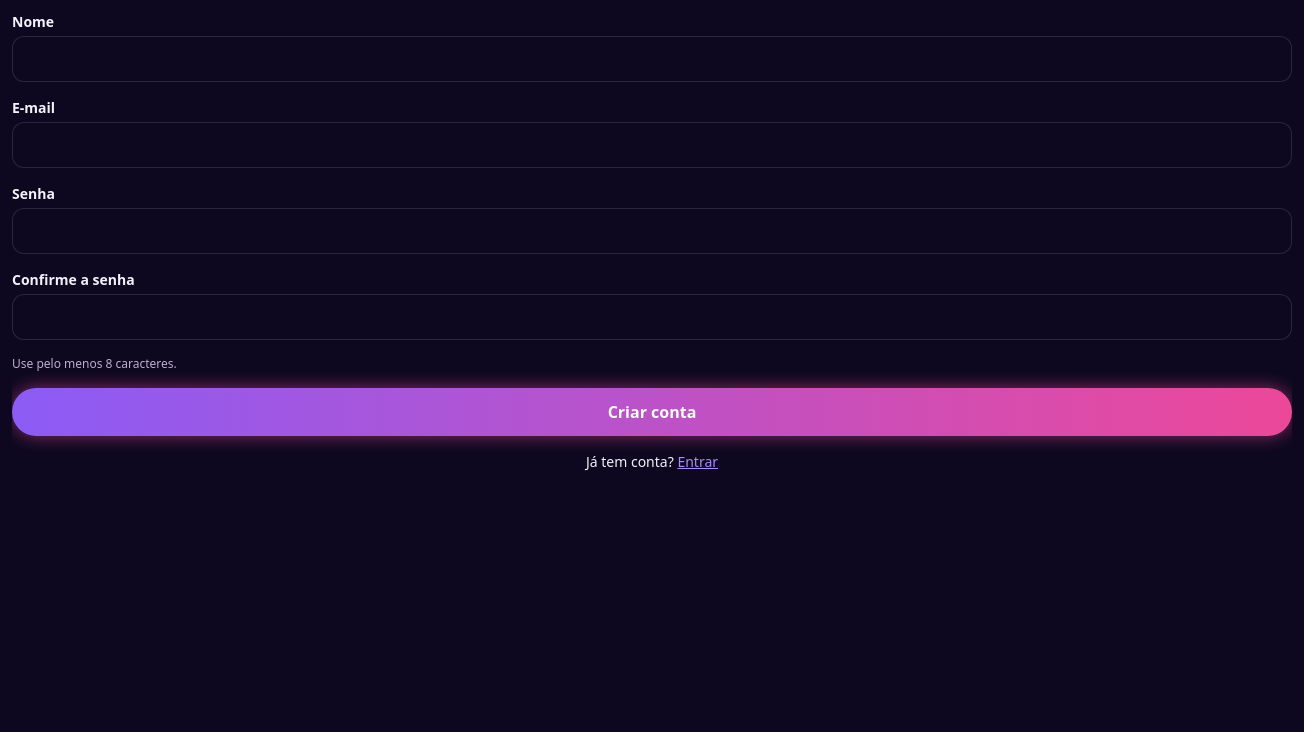
Scenario: Criar conta › confere a confirmação da senha antes de enviar
Type "Ana" into the field labelled "Nome" at coordinates (652, 59), box [12,36,1292,82]
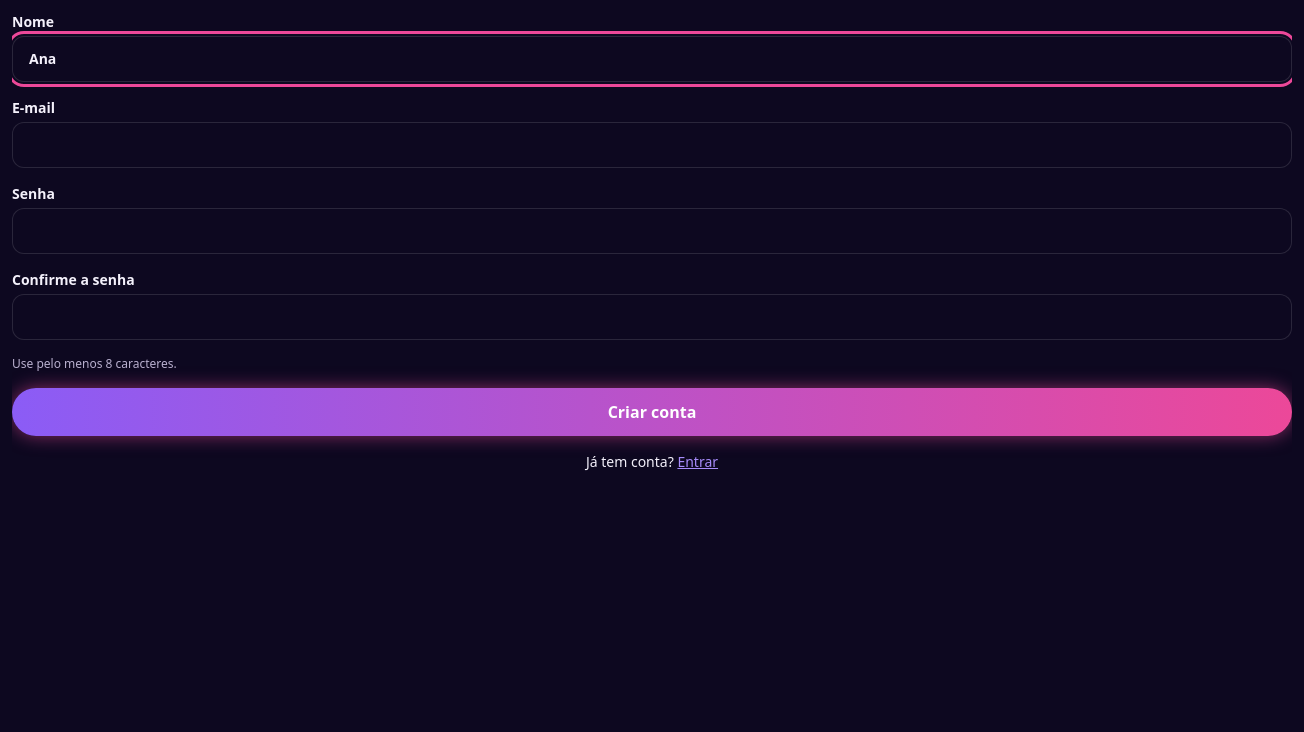
Type "ana@ex.com" into the field labelled "E-mail" at coordinates (652, 145), box [12,122,1292,168]
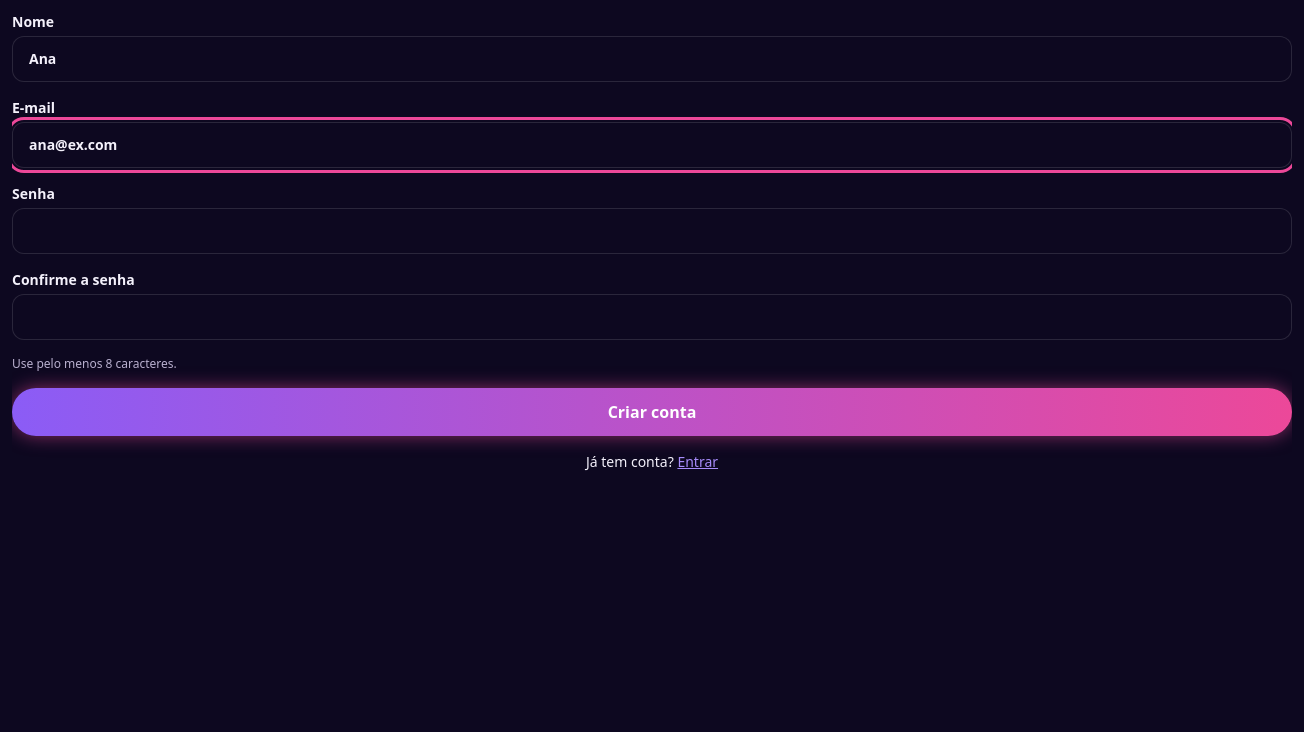
Type "senha-forte-1" into the password field labelled "Senha" at coordinates (652, 231), box [12,208,1292,254]
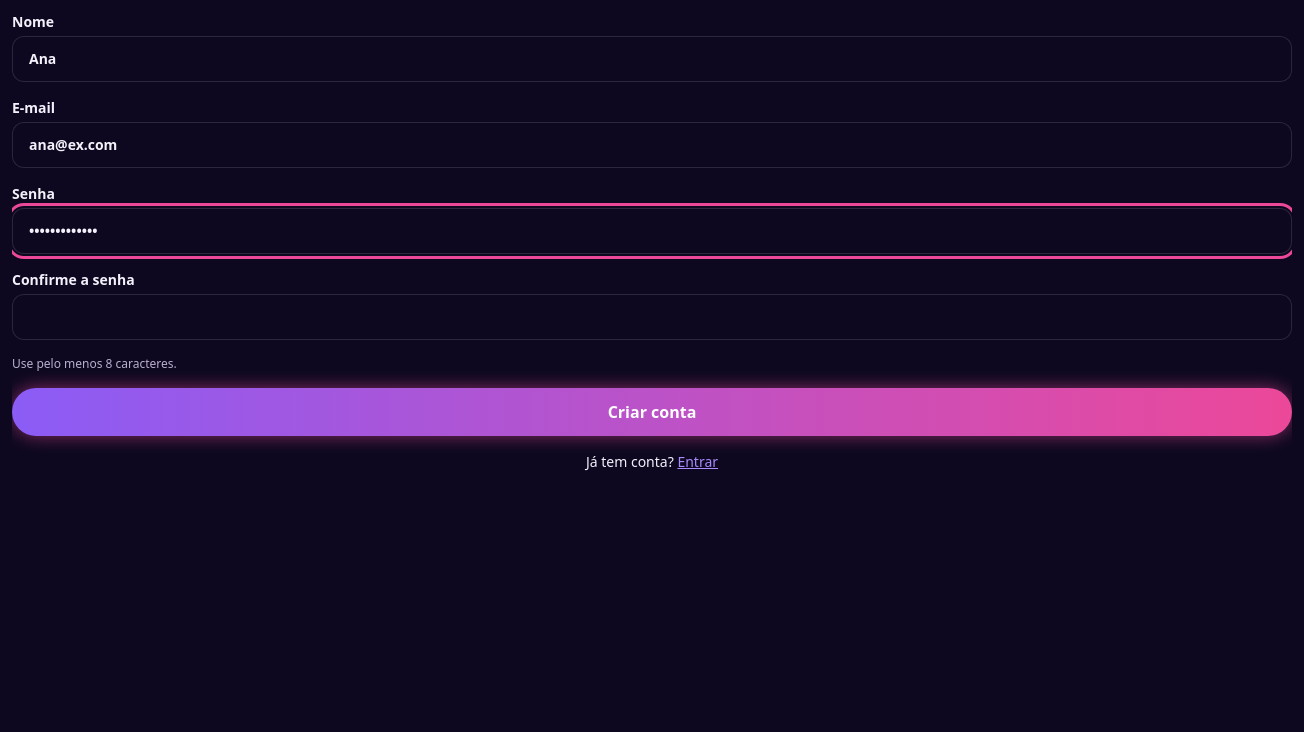
Type "senha-forte-2" into the password field labelled "Confirme a senha" at coordinates (652, 317), box [12,294,1292,340]
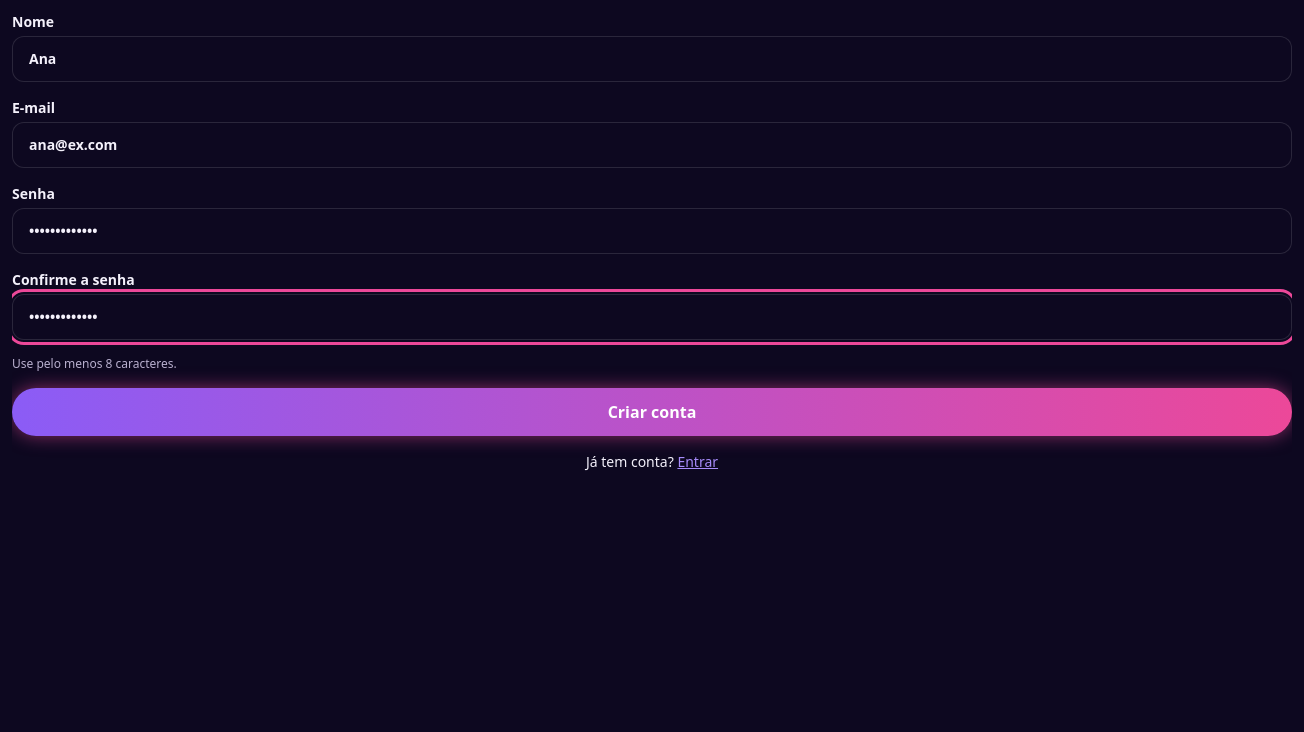
Click the button "Criar conta" at coordinates (652, 412), box [12,388,1292,436]
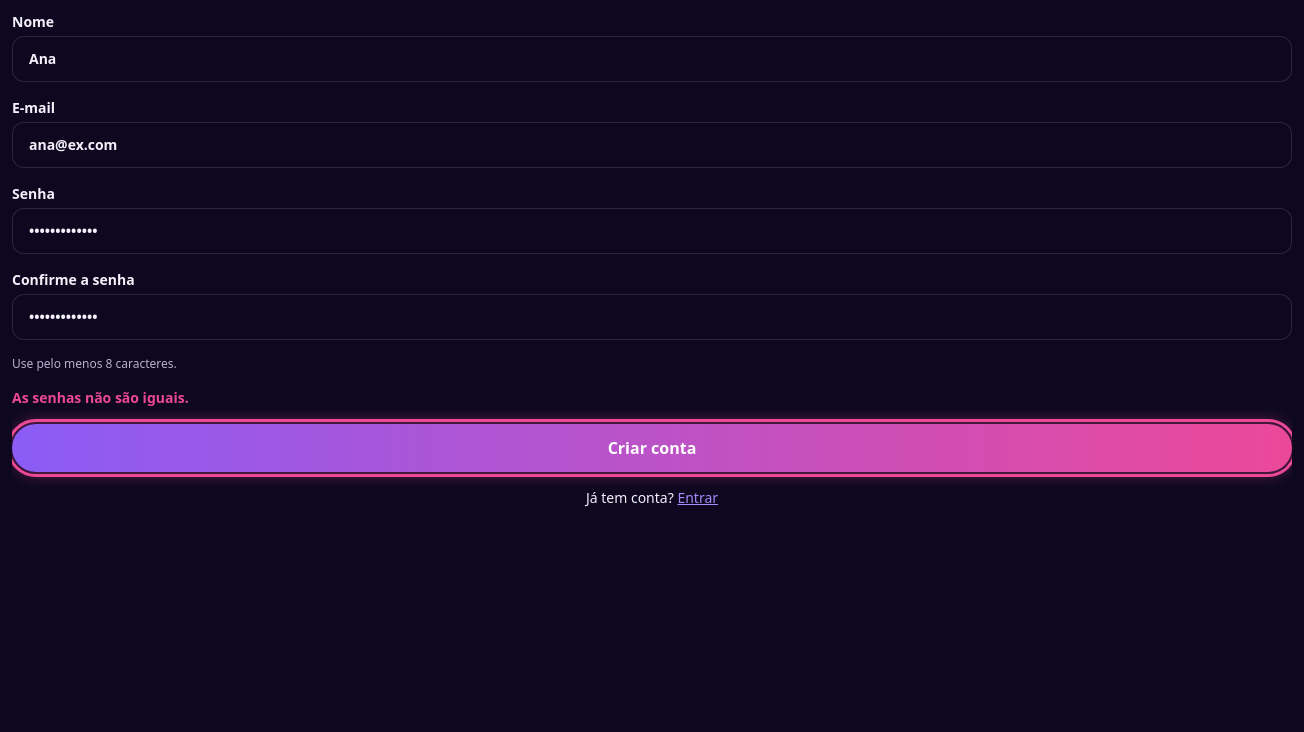
Result: the message reads "As senhas não são iguais." at [12,388,189,407]
